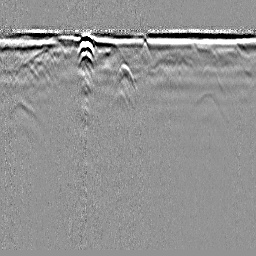cavity: (112, 59, 136, 90)
